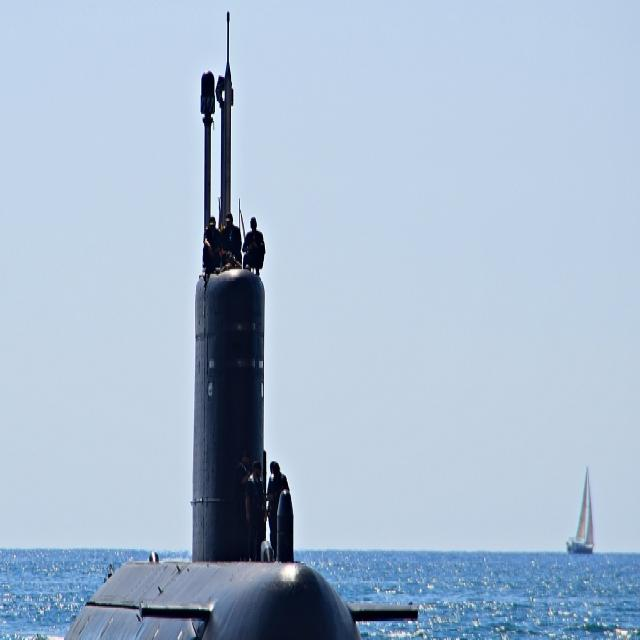submarine: (53, 1, 373, 640)
